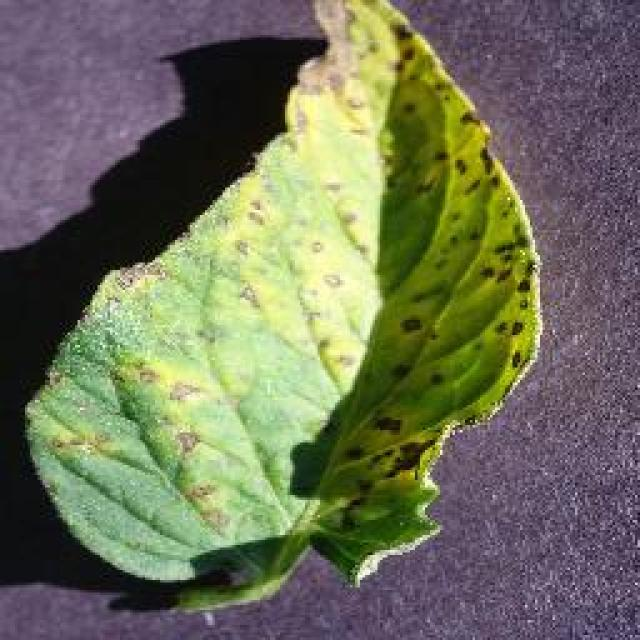leaf_spot: (28, 0, 538, 608)
